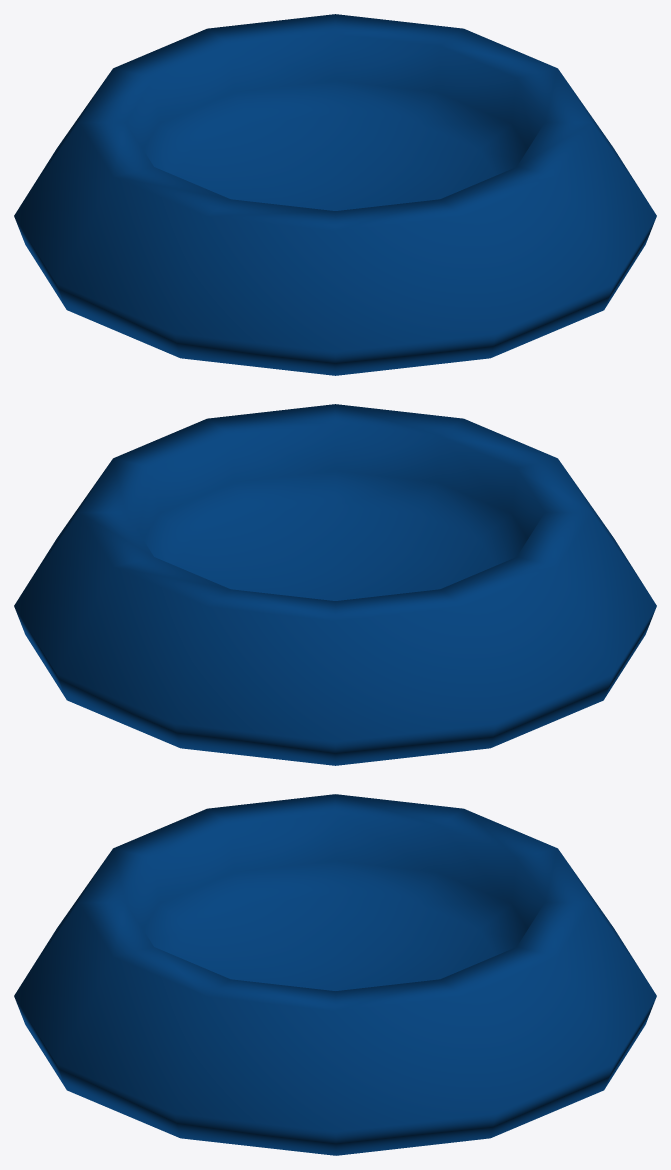
File: Logic_C_Hole.fbx
3 views of the same model, one above another, from view 1: azimuth 30°, elevation 25°; view 2: azimuth 150°, elevation 25°; view 3: azimuth 270°, elevation 25° (orthographic).
Visible parts, largest first — view 1: Logic_C_Hole; view 2: Logic_C_Hole; view 3: Logic_C_Hole.
Part boxes in pixels (left/top/right/bottom): Logic_C_Hole: left=14, top=14, right=656, bottom=375; Logic_C_Hole: left=14, top=404, right=656, bottom=765; Logic_C_Hole: left=14, top=794, right=656, bottom=1155.
Size of the model in its own units: 8.71 by 1.83 by 8.72.
